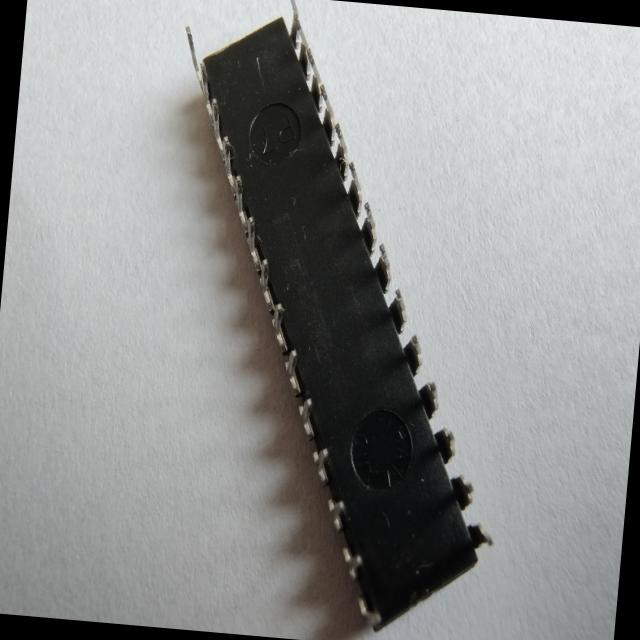atmega: (131, 0, 539, 640)
